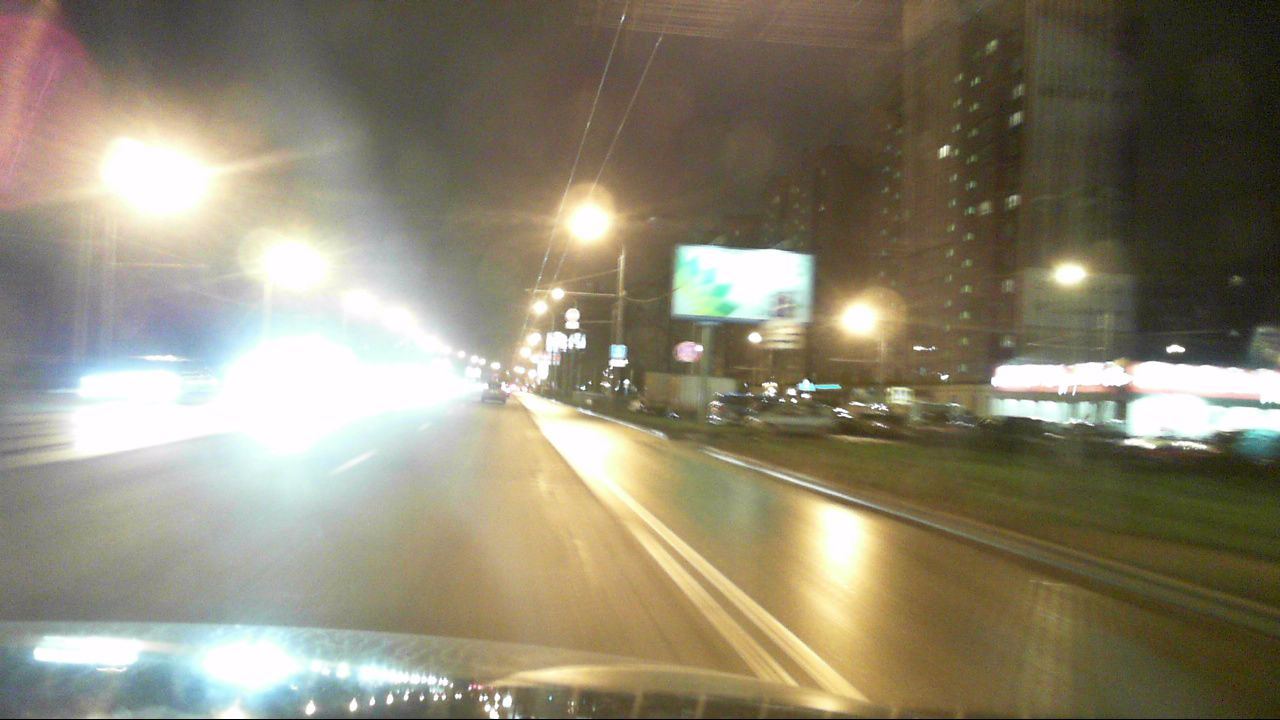No Parking: (677, 342, 698, 361)
